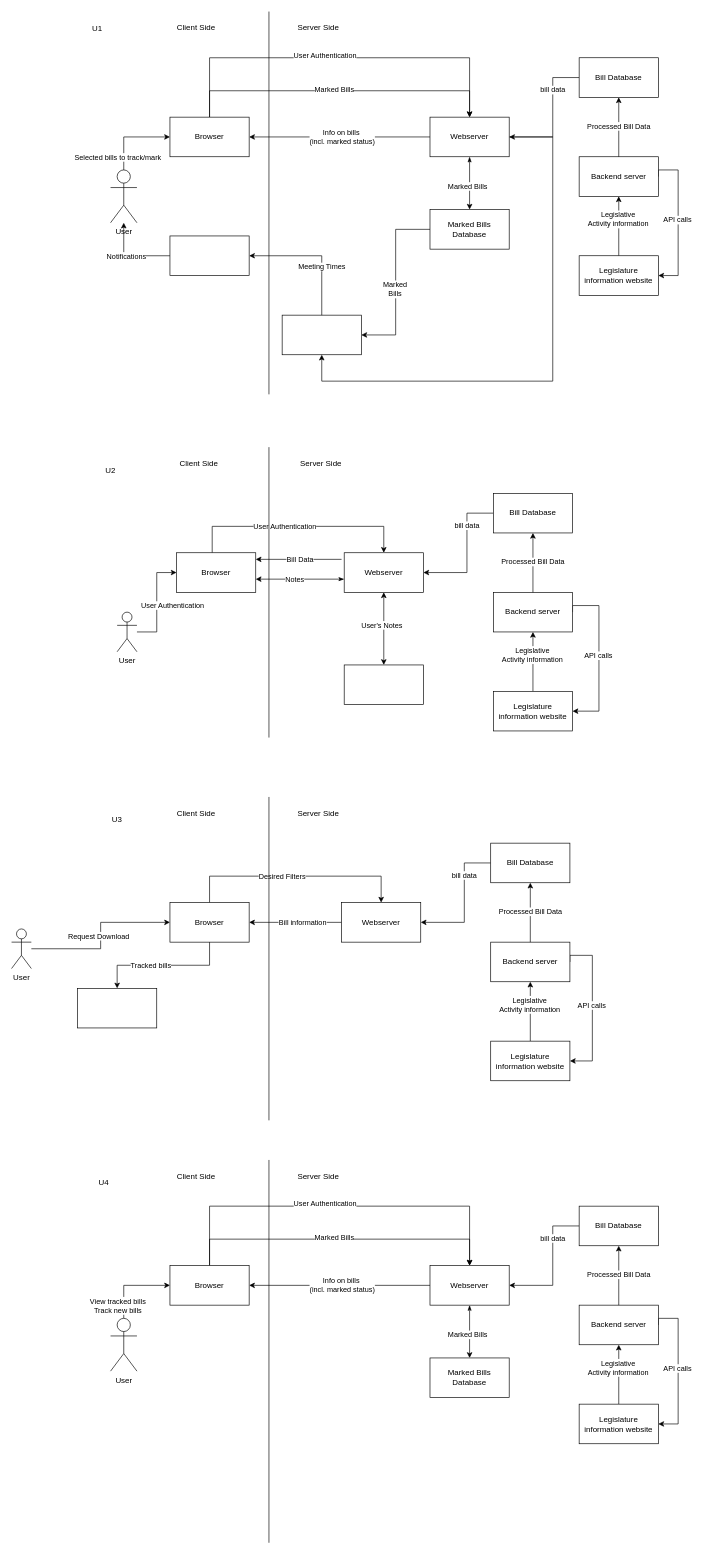
Some shapes in this 703 by 1555 pixel diagram are drawn without their labels. The shapes that lost their labels are listed below. From the top down, each one's centre as x and y in pixels, then its label:
(x=209, y=255): Calendar App
(x=321, y=334): ICalendar Server
(x=383, y=684): Notes Database
(x=117, y=1008): File System
